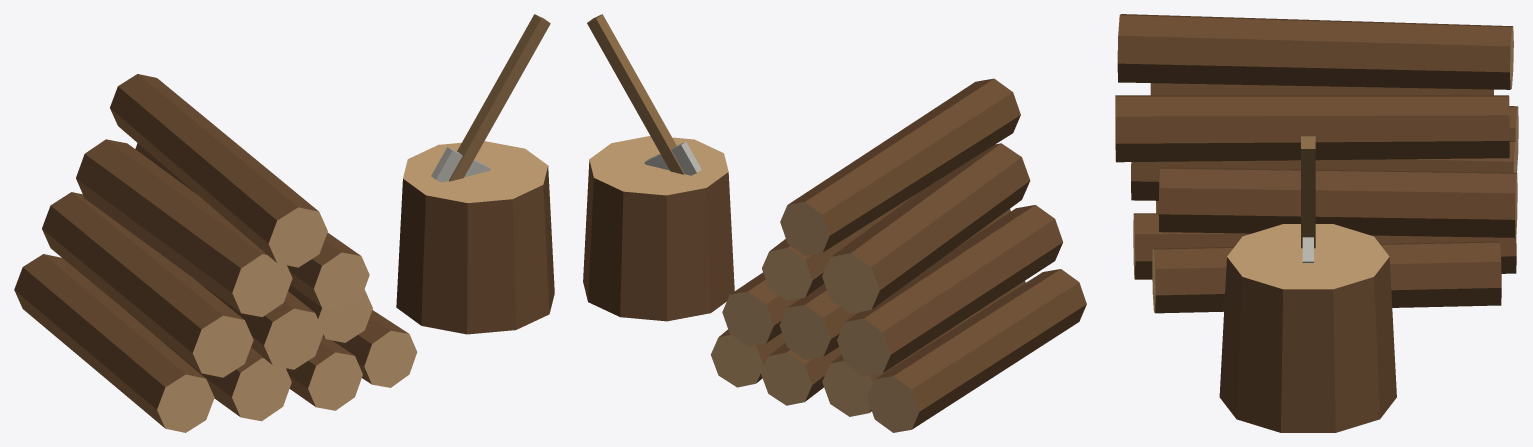
File: woodpile.glb
The picture shows the model from 3 angles, left to right: view 1: azimuth 30°, elevation 25°; view 2: azimuth 150°, elevation 25°; view 3: azimuth 270°, elevation 25°; orthographic projection. The views are drawn at different scales.
Visible parts, largest first — view 1: woodpile; view 2: woodpile; view 3: woodpile.
Boxes of the visible parts, x1,y1,x2,y2 form: woodpile: [14, 14, 554, 432]; woodpile: [583, 14, 1086, 432]; woodpile: [1115, 14, 1518, 432].
Bounding box in the file's own units: 1.55 × 0.8824 × 1.09.
